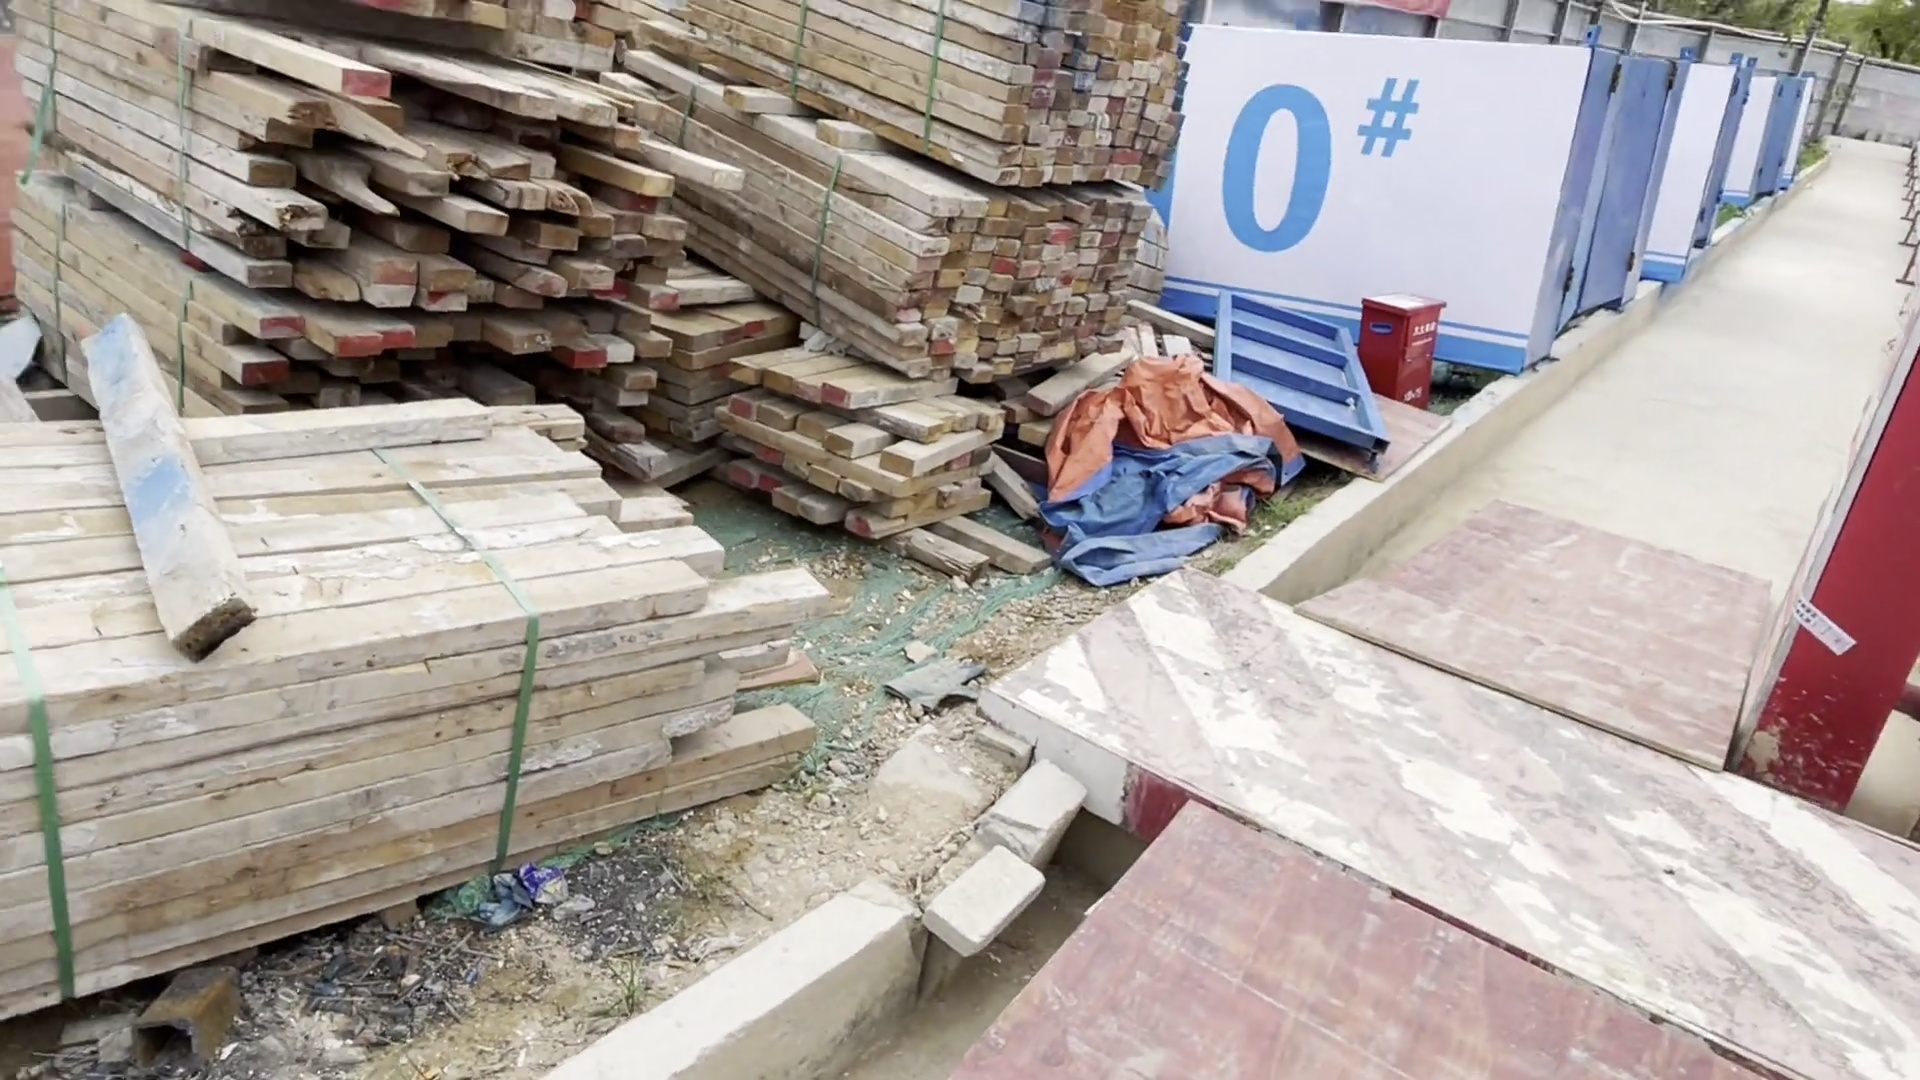board: (943, 520, 1778, 1077)
wood: (1, 398, 844, 1023), (18, 3, 723, 415), (735, 1, 1189, 522)
